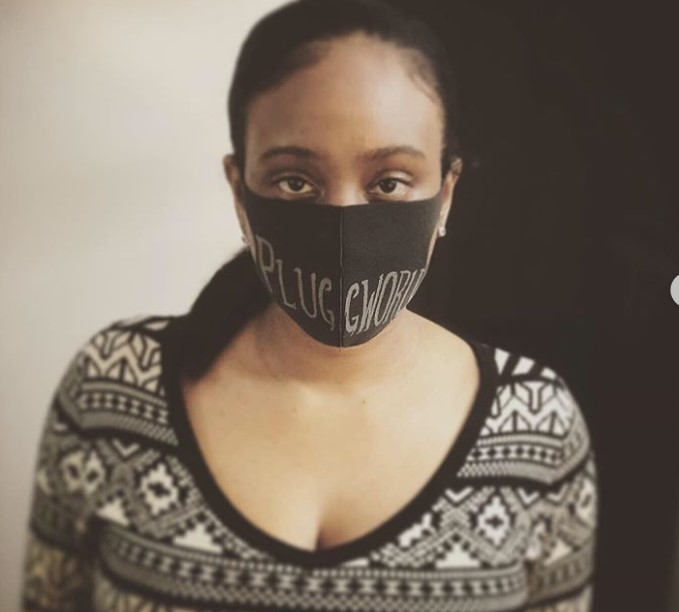face_with_mask: (224, 2, 464, 348)
